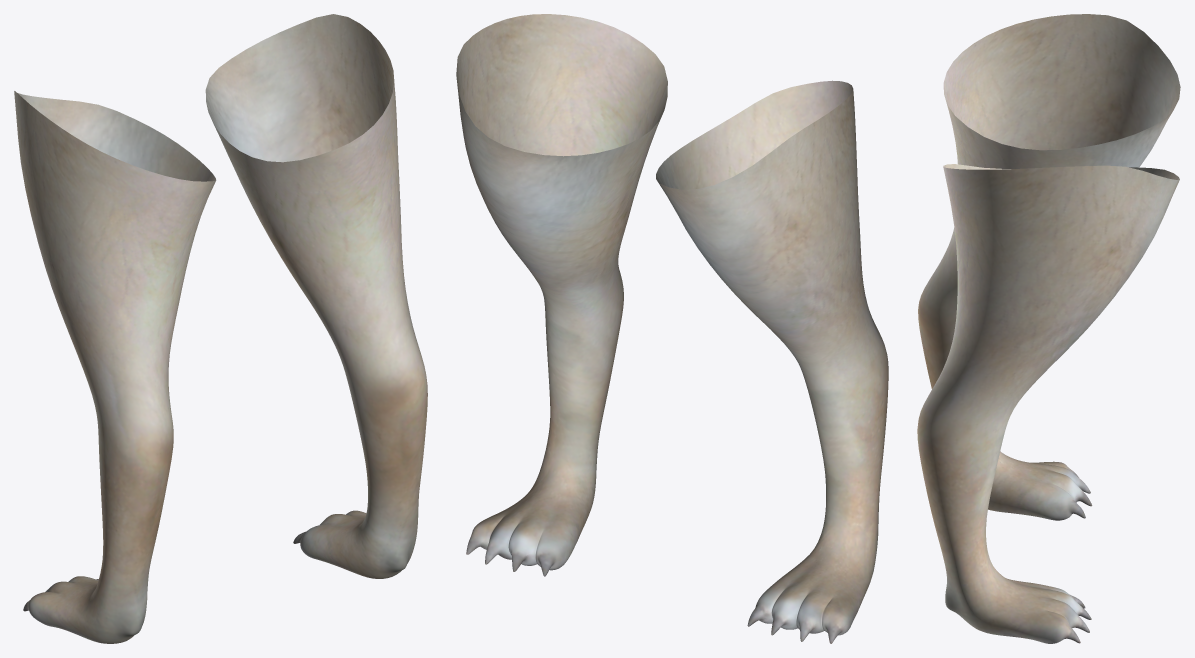
Rendered from PatasIzquierdas.obj.
3 views of the same model, side by side, from view 1: azimuth 30°, elevation 25°; view 2: azimuth 150°, elevation 25°; view 3: azimuth 270°, elevation 25° (orthographic). The views are drawn at different scales.
Visible parts, largest first — view 1: Canaan_Dog; view 2: Canaan_Dog; view 3: Canaan_Dog.
Part boxes in pixels (x1,y1,x2,y2): Canaan_Dog: (14, 14, 427, 643); Canaan_Dog: (456, 14, 888, 643); Canaan_Dog: (917, 14, 1180, 643).
Size of the model in its own units: 11.51 by 15.56 by 7.74.
Materials: 1 (1 with a texture image).
